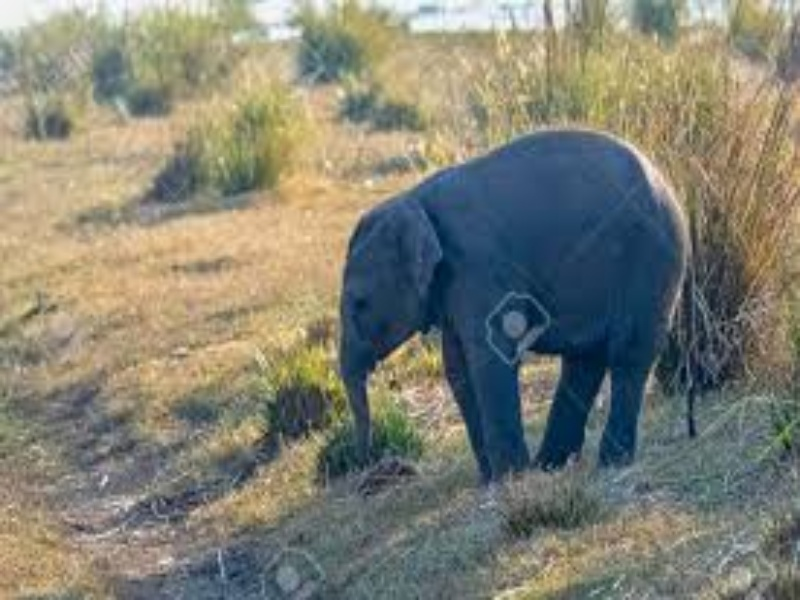elephant: (285, 124, 710, 465)
